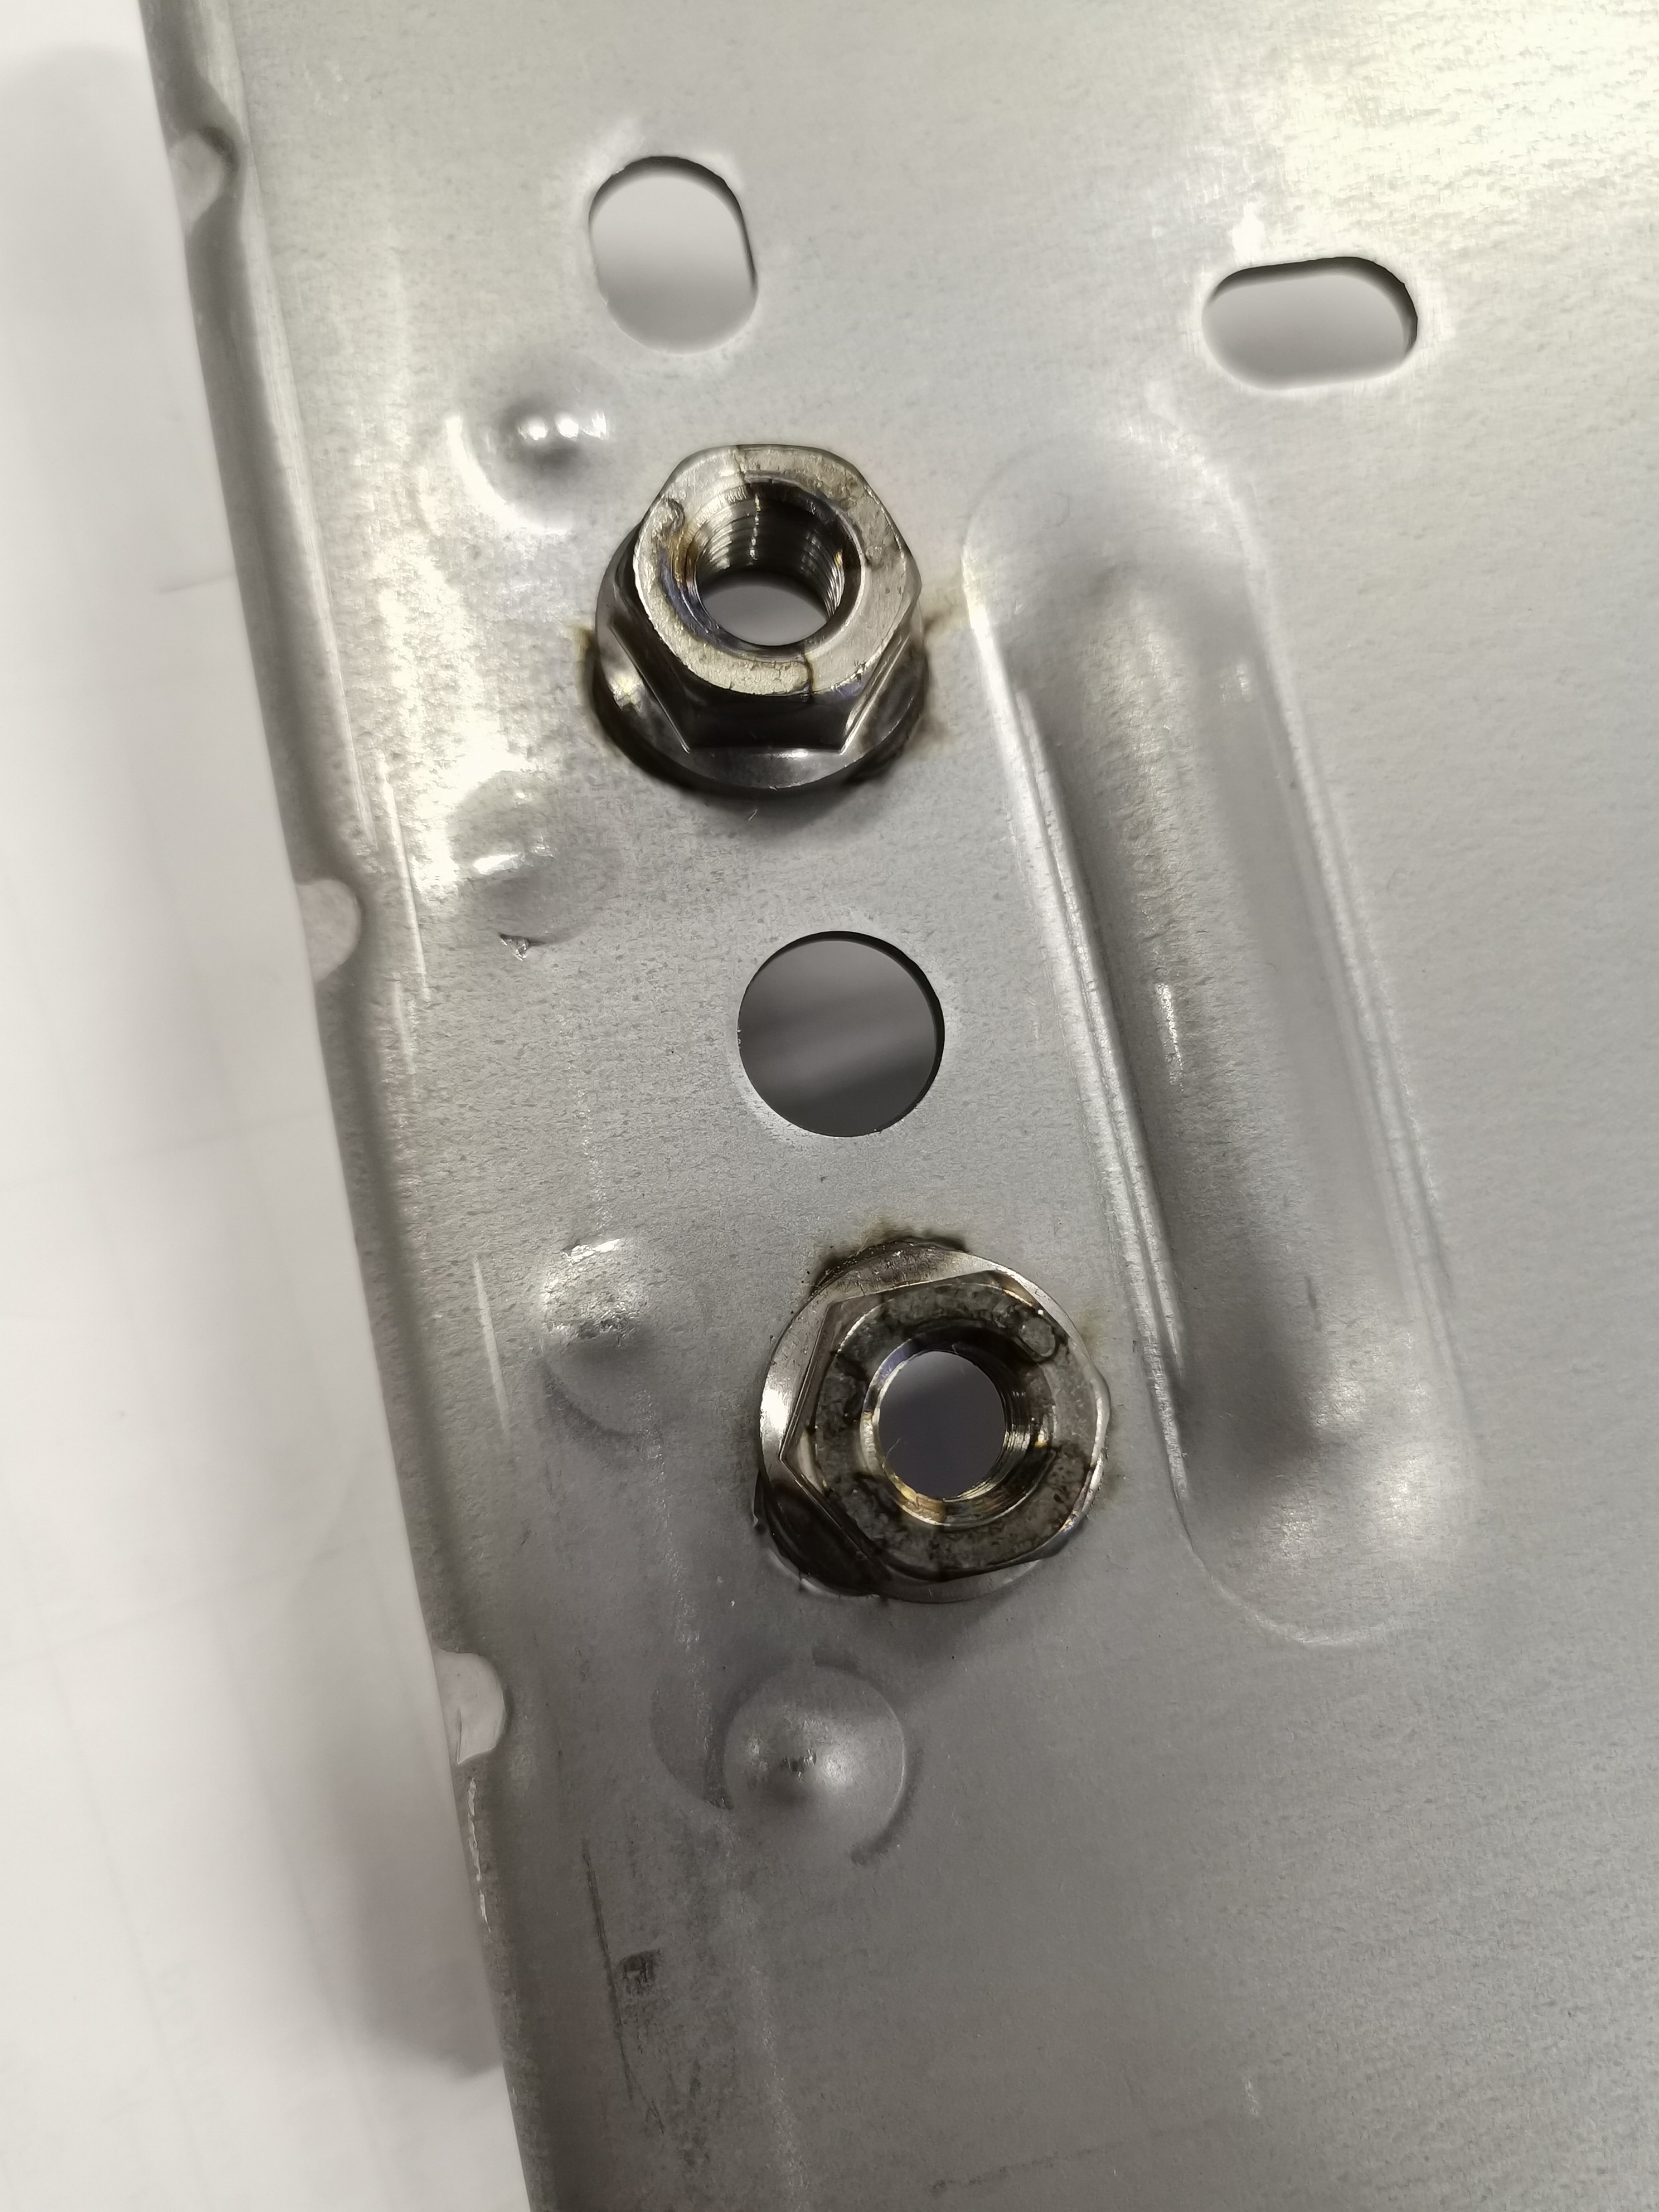dog: (573, 427, 943, 815), (744, 1231, 1119, 1613)
